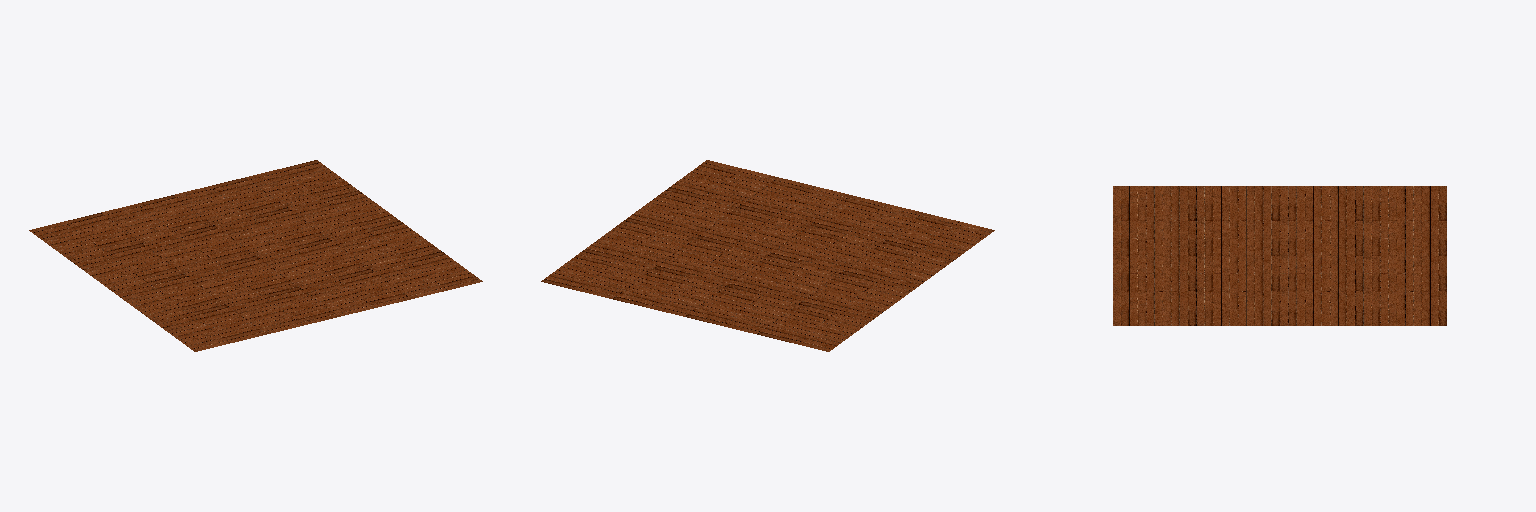
3 views of the same model, side by side, from view 1: azimuth 30°, elevation 25°; view 2: azimuth 150°, elevation 25°; view 3: azimuth 270°, elevation 25° (orthographic).
Parts seen in each view (by area): view 1: Plane; view 2: Plane; view 3: Plane.
Boxes of the visible parts, x1,y1,x2,y2 form: Plane: [29, 160, 482, 351]; Plane: [541, 160, 994, 351]; Plane: [1113, 186, 1446, 325].
Size of the model in its own units: 16 by 0 by 16.
1 materials, 1 textured.